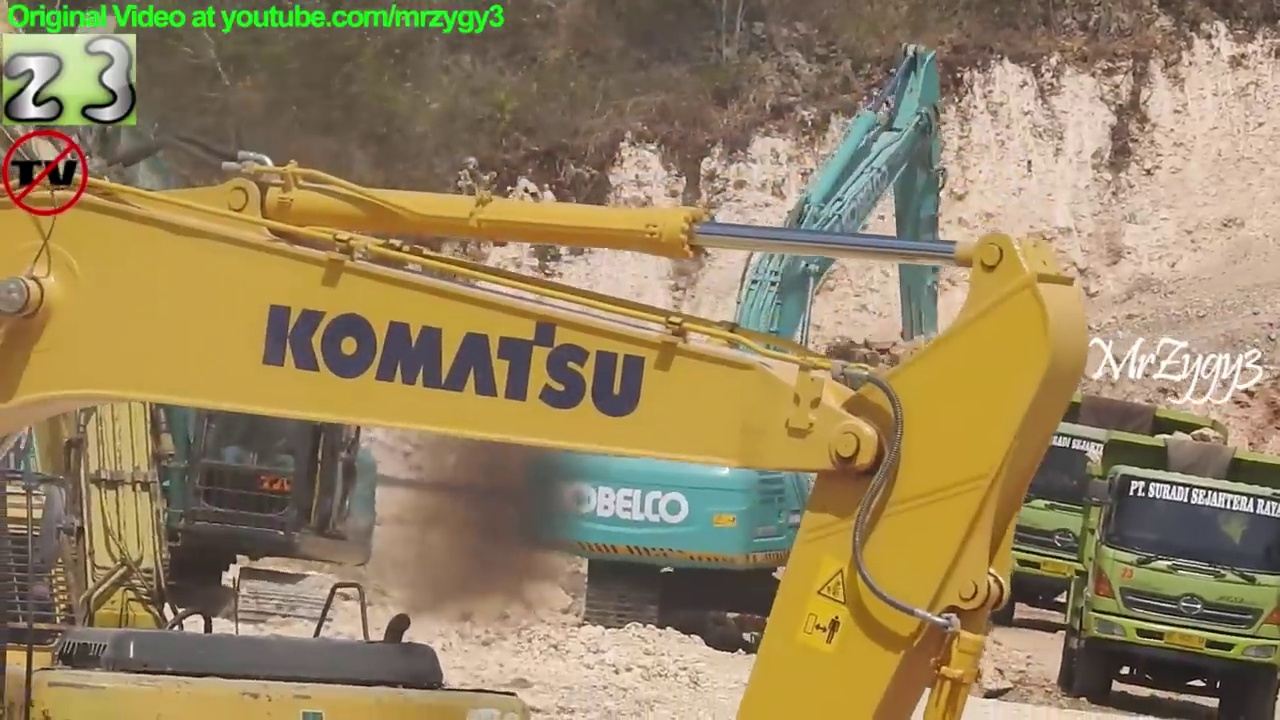excavator: (1, 134, 1098, 720), (513, 31, 977, 662)
truck: (969, 381, 1233, 659), (1064, 438, 1275, 720)
